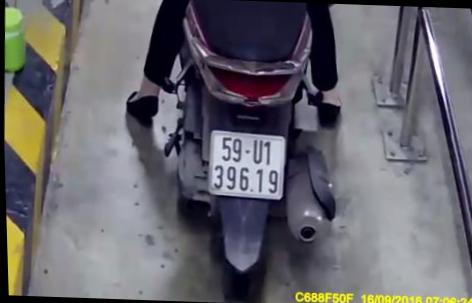LP: (206, 126, 287, 204)
